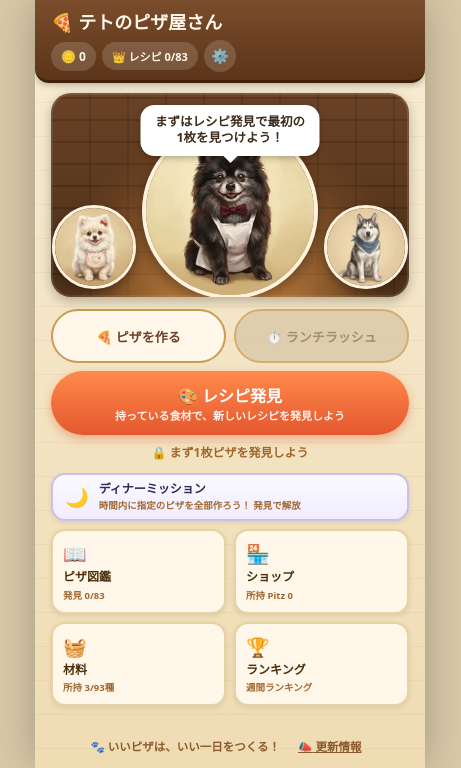
Test: HOME/GAME separation (Issue #24) › navigates HOME -> Pizza Select on the primary CTA (Issue #39), not straight into GAME
Click the button "🍕 ピザを作る". click: coordinates (138, 336)
box: [51,309,226,363]
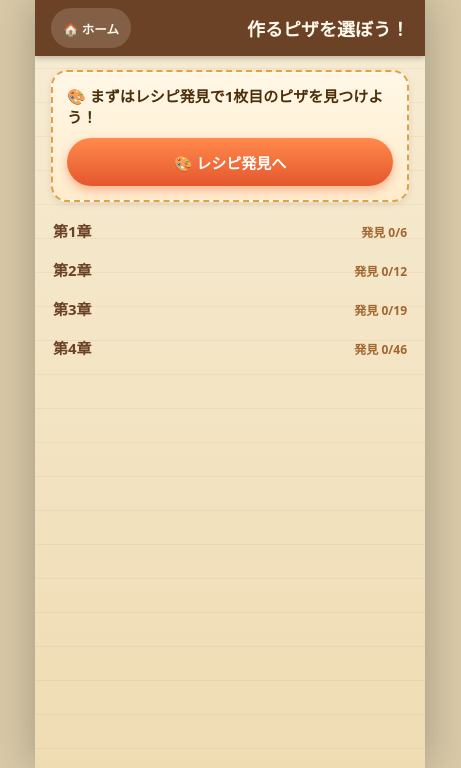
Expected: the element that starts with "ホーム" is shown
Expected: the element with class "home-screen" is gone
Expected: the heading "作るピザを選ぼう！" is shown, [247,15,409,41]
